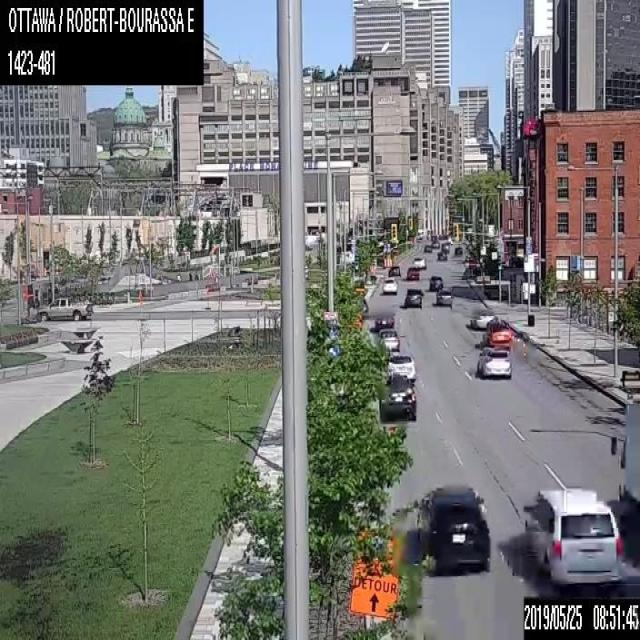construction: (350, 542, 403, 618)
vehicle: (521, 486, 625, 590), (421, 481, 491, 575), (609, 397, 639, 531), (378, 375, 417, 421), (36, 293, 93, 320), (476, 345, 510, 379), (482, 316, 511, 348), (385, 352, 416, 381), (377, 328, 399, 352), (403, 285, 422, 308), (374, 310, 394, 330), (435, 288, 453, 307), (382, 276, 397, 295), (429, 274, 442, 291), (406, 264, 419, 279), (413, 255, 426, 269), (387, 265, 400, 276), (436, 250, 446, 260), (441, 242, 449, 252), (431, 239, 439, 248), (424, 244, 432, 252), (454, 246, 462, 253)
